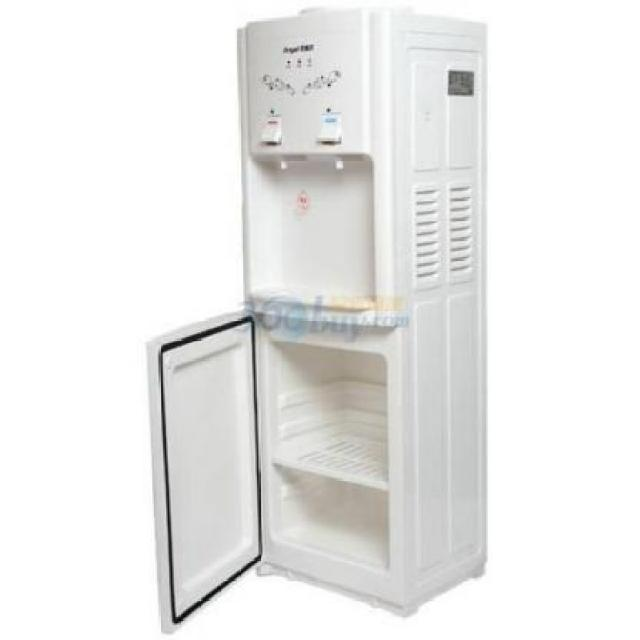cooler: (235, 3, 491, 621)
